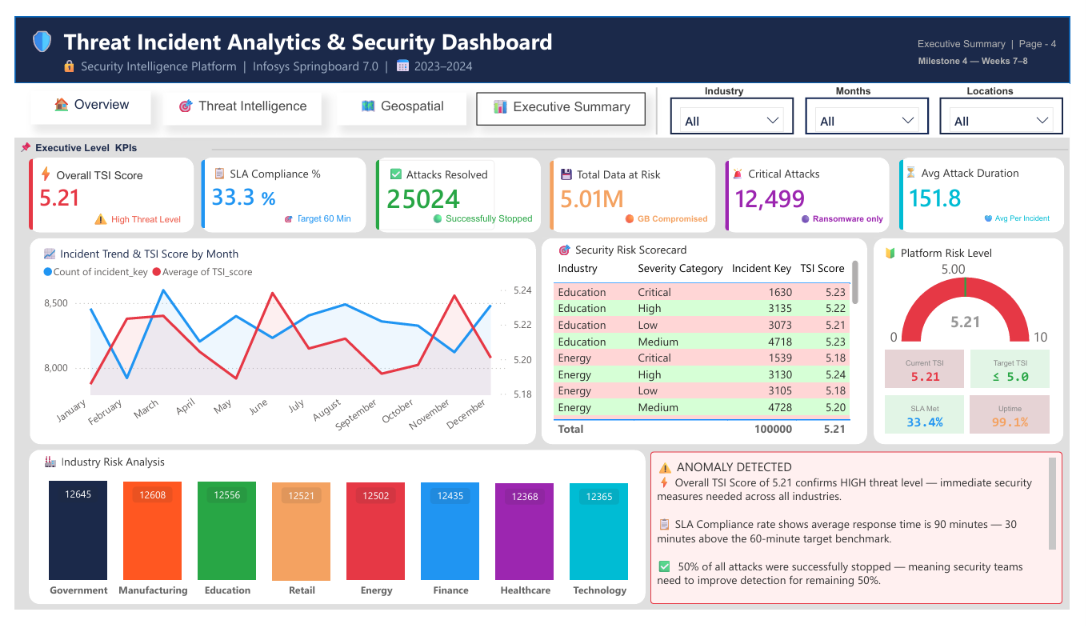

This screenshot's page, from the dashboard's own definition file:
{"tool":"powerbi","page":{"name":"Executive Summary","canvas":[1280,720],"ordinal":3},"visuals":[{"type":"shape","box":[649.3,171.3,200.3,90.5],"z":0},{"type":"shape","box":[860.9,171.3,200.3,90.5],"z":1000},{"type":"shape","box":[1072.5,171.3,200,90.5],"z":2000},{"type":"shape","box":[1042.4,269,229.2,249.7],"z":3000},{"type":"shape","box":[16.9,526,748,187],"z":4000},{"type":"shape","box":[226.1,171.3,200.3,90.5],"z":5000},{"type":"cardVisual","fields":{"Data":["dim_industry.SLA Compliance"]},"box":[208.7,156.8,112.2,117],"z":6000},{"type":"shape","box":[18.1,269,614.1,250],"z":7000},{"type":"shape","box":[0,0,1280,81.2],"z":8000},{"type":"textbox","box":[10,6.2,690,55],"z":9000},{"type":"textbox","box":[51.2,43.8,681.2,37.5],"z":10000},{"type":"textbox","box":[1087,18.1,190.6,35],"z":11000},{"type":"textbox","box":[1090.6,38.6,152,27.7],"z":12000},{"type":"shape","box":[0,80.8,1280,66],"z":13000},{"type":"textbox","box":[18.8,90,146,41],"z":14000},{"type":"textbox","box":[178.6,91.7,193,39.8],"z":15000},{"type":"textbox","box":[389.7,91.7,158,39.8],"z":16000},{"type":"textbox","box":[559.8,91.7,205.1,39.8],"z":17000},{"type":"shape","box":[16.9,171.3,200.3,90.5],"z":18000},{"type":"shape","box":[437.7,171.3,200.3,90.5],"z":19000},{"type":"cardVisual","fields":{"Data":["Avg(fact_incident.TSI_score)"]},"box":[0,155.6,114.6,120.6],"z":20000},{"type":"cardVisual","fields":{"Data":["CountNonNull(dim_response.outcome)"]},"box":[421,156.8,178.6,119.4],"z":21000},{"type":"cardVisual","fields":{"Data":["Sum(fact_incident.data_compromised_GB)"]},"box":[632.2,158,142.4,118.2],"z":22000},{"type":"textbox","box":[18.1,172.5,154.4,38.6],"z":23000},{"type":"textbox","box":[234,176.1,153.2,35],"z":24000},{"type":"textbox","box":[447.6,177.3,153.2,31.4],"z":25000},{"type":"textbox","box":[1072.5,174.9,168.9,35],"z":26000},{"type":"textbox","box":[0,143.6,273.9,37.4],"z":27000},{"type":"shape","box":[238.8,155,1038.8,12.5],"z":28000},{"type":"textbox","box":[89.3,229,125.5,33.8],"z":29000},{"type":"textbox","box":[320.9,230.4,97.7,31.4],"z":30000},{"type":"textbox","box":[500.7,230.4,138.7,31.4],"z":31000},{"type":"textbox","box":[733.5,230.4,115.8,31.4],"z":32000},{"type":"textbox","box":[770.9,528.4,500,184.6],"z":33000},{"type":"textbox","box":[27.7,273.9,279.9,41],"z":34000},{"type":"slicer","fields":{"Values":["dim_time.month"]},"box":[958.5,97.7,150,45],"z":35000},{"type":"slicer","fields":{"Values":["dim_location.location"]},"box":[1122,97.7,150,45],"z":36000},{"type":"slicer","fields":{"Values":["dim_industry.industry"]},"box":[795,97.7,150,45],"z":37000},{"type":"shape","box":[771.2,86.2,15,56.2],"z":38000},{"type":"textbox","box":[832.4,74.8,79.6,29],"z":39000},{"type":"textbox","box":[991.1,74.8,79.6,29],"z":40000},{"type":"textbox","box":[1149.7,74.8,79.6,29],"z":41000},{"type":"shape","box":[639.4,269,394.5,249.7],"z":42000},{"type":"columnChart","fields":{"Category":["dim_industry.industry"],"Y":["CountNonNull(fact_incident.incident_key)"]},"box":[0,528.4,786.6,185.8],"z":43000},{"type":"textbox","box":[652.7,269,184.6,42.2],"z":44000},{"type":"textbox","box":[29,526,179.8,35],"z":45000},{"type":"textbox","box":[294.4,200.3,49.5,42.2],"z":46000},{"type":"cardVisual","fields":{"Data":["CountNonNull(fact_incident.incident_key)"]},"box":[844.5,158,143.6,119.4],"z":47000},{"type":"cardVisual","fields":{"Data":["Avg(fact_incident.attack_duration_min)"]},"box":[1055.6,156.8,127.9,119.4],"z":48000},{"type":"textbox","box":[862.6,176.1,129.1,35],"z":49000},{"type":"textbox","box":[655.1,177.3,143.6,35],"z":50000},{"type":"textbox","box":[948.3,230.4,119.4,31.4],"z":51000},{"type":"textbox","box":[1170.2,229.2,101.3,33.8],"z":52000},{"type":"lineChart","fields":{"Y":["CountNonNull(fact_incident.incident_key)"],"Y2":["Avg(fact_incident.TSI_score)"],"Category":["dim_time.timestamp.Variation.Date Hierarchy.Month"]},"box":[29,289.5,604.4,236.5],"z":53000},{"type":"tableEx","fields":{"Values":["dim_industry.industry","dim_threat.severity_category","fact_incident.incident_key","Avg(fact_incident.TSI_score)"]},"box":[647.9,289.5,381.2,225],"z":54000},{"type":"gauge","fields":{"Y":["Sum(fact_incident.TSI_score)"]},"box":[1042.4,279.9,230.4,124.3],"z":55000},{"type":"textbox","box":[1055.8,405.4,96.5,45.8],"z":56000},{"type":"textbox","box":[1159.6,405.4,96.5,45.8],"z":57000},{"type":"textbox","box":[1055.6,459.9,96.5,45.8],"z":58000},{"type":"textbox","box":[1159.4,459.9,96.5,45.8],"z":59000},{"type":"textbox","box":[1048.4,272.7,184.6,42.2],"z":60000},{"type":"textbox","box":[1130.4,352.3,74.8,42.2],"z":61000}]}

Visuals, with their boxes in screenshot pixels (x1, y1, x2, y2), scaled from the page's 1280x720 canvas onto the 1086x626 screenshot:
shape: bbox(551, 149, 721, 228)
shape: bbox(730, 149, 900, 228)
shape: bbox(910, 149, 1080, 228)
shape: bbox(884, 234, 1079, 451)
shape: bbox(14, 457, 649, 620)
shape: bbox(192, 149, 362, 228)
cardVisual - dim_industry.SLA Compliance: bbox(177, 136, 272, 238)
shape: bbox(15, 234, 536, 451)
shape: bbox(0, 0, 1085, 71)
textbox: bbox(8, 5, 594, 53)
textbox: bbox(43, 38, 621, 71)
textbox: bbox(922, 16, 1084, 46)
textbox: bbox(925, 34, 1054, 58)
shape: bbox(0, 70, 1085, 128)
textbox: bbox(16, 78, 140, 114)
textbox: bbox(152, 80, 315, 114)
textbox: bbox(331, 80, 465, 114)
textbox: bbox(475, 80, 649, 114)
shape: bbox(14, 149, 184, 228)
shape: bbox(371, 149, 541, 228)
cardVisual - Avg(fact_incident.TSI_score): bbox(0, 135, 97, 240)
cardVisual - CountNonNull(dim_response.outcome): bbox(357, 136, 509, 240)
cardVisual - Sum(fact_incident.data_compromised_GB): bbox(536, 137, 657, 240)
textbox: bbox(15, 150, 146, 184)
textbox: bbox(199, 153, 329, 184)
textbox: bbox(380, 154, 510, 181)
textbox: bbox(910, 152, 1053, 182)
textbox: bbox(0, 125, 232, 157)
shape: bbox(203, 135, 1084, 146)
textbox: bbox(76, 199, 182, 228)
textbox: bbox(272, 200, 355, 228)
textbox: bbox(425, 200, 542, 228)
textbox: bbox(622, 200, 721, 228)
textbox: bbox(654, 459, 1078, 620)
textbox: bbox(24, 238, 261, 274)
slicer - dim_time.month: bbox(813, 85, 940, 124)
slicer - dim_location.location: bbox(952, 85, 1079, 124)
slicer - dim_industry.industry: bbox(675, 85, 802, 124)
shape: bbox(654, 75, 667, 124)
textbox: bbox(706, 65, 774, 90)
textbox: bbox(841, 65, 908, 90)
textbox: bbox(975, 65, 1043, 90)
shape: bbox(542, 234, 877, 451)
columnChart - dim_industry.industry x CountNonNull(fact_incident.incident_key): bbox(0, 459, 667, 621)
textbox: bbox(554, 234, 710, 271)
textbox: bbox(25, 457, 177, 488)
textbox: bbox(250, 174, 292, 211)
cardVisual - CountNonNull(fact_incident.incident_key): bbox(717, 137, 838, 241)
cardVisual - Avg(fact_incident.attack_duration_min): bbox(896, 136, 1004, 240)
textbox: bbox(732, 153, 841, 184)
textbox: bbox(556, 154, 678, 185)
textbox: bbox(805, 200, 906, 228)
textbox: bbox(993, 199, 1079, 229)
lineChart - CountNonNull(fact_incident.incident_key) x Avg(fact_incident.TSI_score): bbox(25, 252, 537, 457)
tableEx - dim_industry.industry x dim_threat.severity_category: bbox(550, 252, 873, 447)
gauge - Sum(fact_incident.TSI_score): bbox(884, 243, 1080, 351)
textbox: bbox(896, 352, 978, 392)
textbox: bbox(984, 352, 1066, 392)
textbox: bbox(896, 400, 977, 440)
textbox: bbox(984, 400, 1066, 440)
textbox: bbox(890, 237, 1046, 274)
textbox: bbox(959, 306, 1023, 343)
